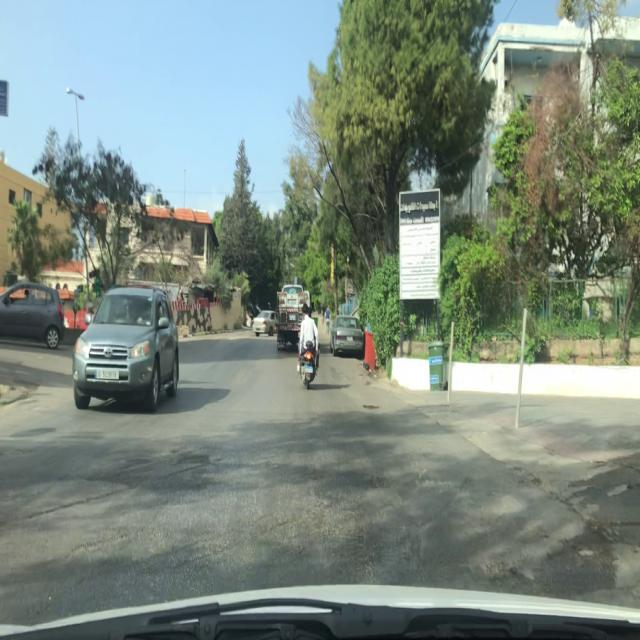Pothole: (361, 404, 380, 411)
